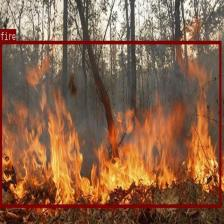fire: (0, 40, 220, 206)
